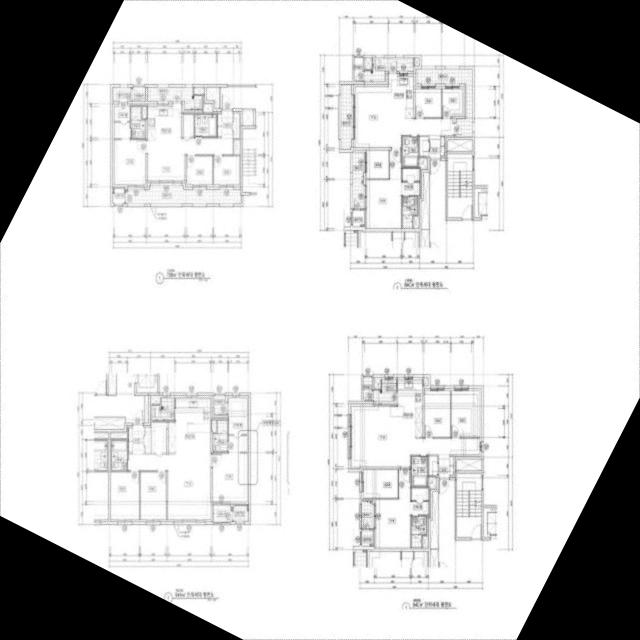background: (0, 0, 640, 640)
space_balconi: (417, 69, 472, 137), (125, 186, 241, 204), (148, 87, 202, 110), (365, 58, 414, 82), (341, 85, 351, 150), (374, 380, 397, 405), (353, 153, 363, 209), (152, 398, 174, 421), (213, 505, 233, 522), (362, 501, 374, 529), (113, 87, 131, 101)
space_bedroom: (367, 150, 401, 229), (376, 470, 410, 548), (213, 453, 247, 502), (114, 140, 146, 184), (111, 472, 139, 520), (451, 391, 480, 437), (140, 472, 166, 520), (425, 391, 450, 437), (187, 156, 213, 185), (415, 89, 441, 117), (214, 156, 239, 185), (442, 89, 462, 117)
space_dressroom: (229, 398, 247, 452), (114, 104, 130, 139), (411, 488, 429, 515), (402, 169, 419, 195)
space_front: (128, 425, 144, 453), (217, 111, 233, 138), (439, 455, 454, 478), (429, 135, 445, 156)
space_kitchen: (168, 398, 211, 453), (398, 380, 423, 437), (148, 104, 181, 138), (389, 74, 413, 119)
space_living_room: (352, 406, 480, 467), (355, 87, 453, 147), (128, 453, 211, 520), (148, 138, 233, 181)
space_multipurpose_space: (364, 470, 398, 498), (367, 150, 389, 179)
space_other: (430, 492, 439, 549), (421, 172, 429, 229), (152, 422, 166, 453), (206, 87, 220, 109), (457, 459, 482, 471), (448, 140, 472, 151), (183, 114, 194, 137), (214, 396, 227, 415), (354, 58, 363, 82), (363, 378, 372, 401), (132, 87, 146, 101), (419, 137, 428, 156), (243, 109, 253, 126), (429, 456, 437, 476), (234, 113, 240, 138), (145, 428, 151, 453), (145, 396, 149, 423), (111, 433, 127, 439), (234, 140, 240, 155), (428, 477, 436, 488), (419, 158, 427, 168), (365, 58, 372, 69), (194, 87, 204, 94), (204, 105, 212, 113), (142, 107, 147, 119), (212, 420, 217, 432), (375, 380, 381, 389), (414, 217, 418, 229), (152, 398, 160, 404), (423, 536, 427, 548), (415, 58, 419, 66), (424, 379, 427, 386)
space_outdoor_room: (234, 506, 249, 522), (353, 210, 364, 227), (113, 188, 124, 204), (362, 530, 373, 546)
space_staircase: (457, 474, 482, 537), (448, 154, 472, 218)
space_toilet: (195, 114, 216, 137), (402, 197, 417, 229), (402, 137, 418, 167), (213, 420, 228, 452), (411, 516, 426, 548), (131, 107, 146, 138), (112, 440, 127, 471), (412, 456, 427, 487)
